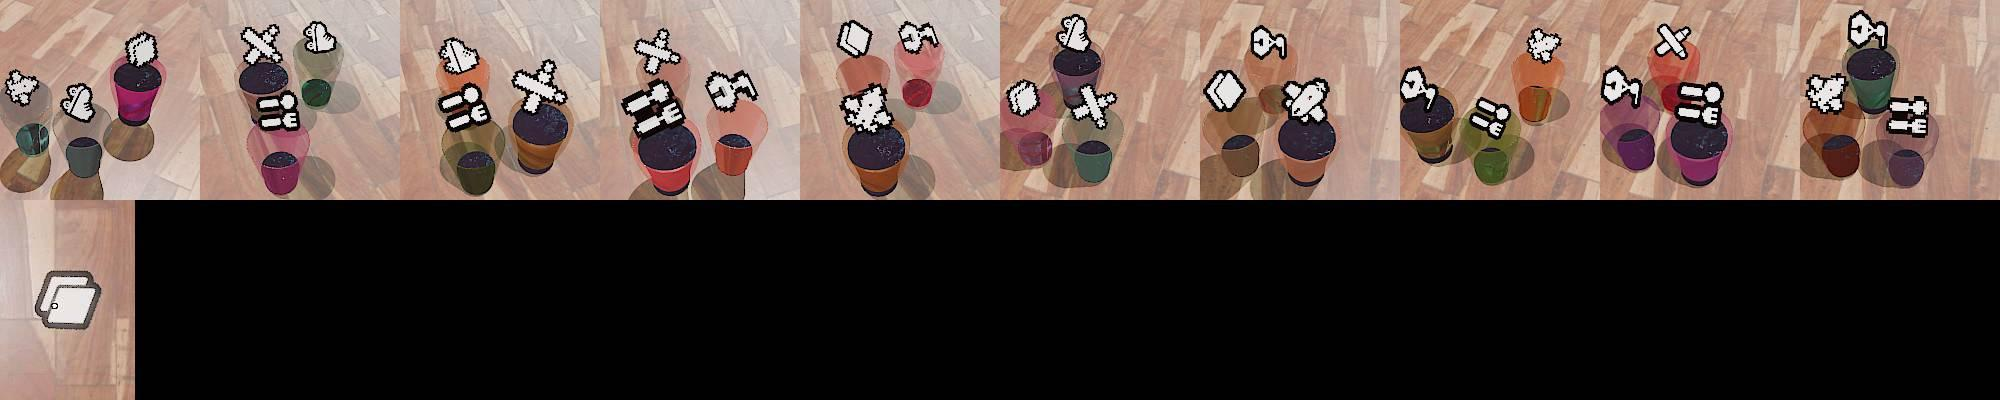icon: (33, 269, 103, 330), (621, 79, 689, 136), (510, 60, 569, 116), (436, 84, 491, 131), (839, 84, 892, 132), (705, 68, 760, 113), (633, 27, 682, 76), (1672, 80, 1724, 127), (1071, 80, 1119, 129), (1281, 76, 1330, 122), (253, 90, 300, 132), (1203, 68, 1246, 112), (1467, 94, 1511, 138), (240, 23, 283, 66), (1886, 96, 1930, 138), (1601, 65, 1644, 107), (1805, 73, 1848, 115), (439, 37, 481, 75), (897, 19, 940, 55), (1056, 13, 1093, 54), (1654, 23, 1693, 61), (837, 19, 874, 59), (1249, 24, 1288, 61), (60, 82, 96, 122), (1005, 79, 1042, 117), (1526, 25, 1562, 64), (302, 19, 338, 56), (124, 31, 158, 69), (5, 70, 41, 106), (1849, 13, 1886, 46), (1401, 66, 1434, 103)
